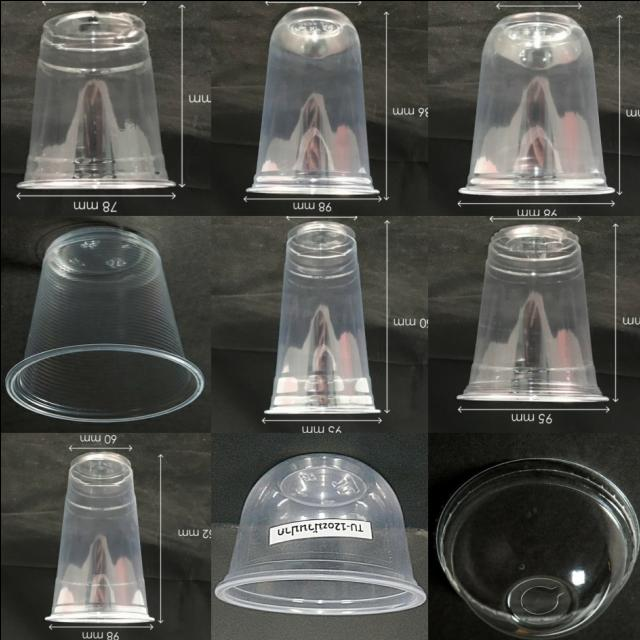plastik: (5, 226, 203, 420), (437, 458, 638, 639), (214, 452, 425, 613), (460, 11, 612, 194), (17, 10, 174, 187), (458, 224, 606, 400), (249, 6, 376, 192), (265, 220, 378, 412), (45, 451, 153, 622)
